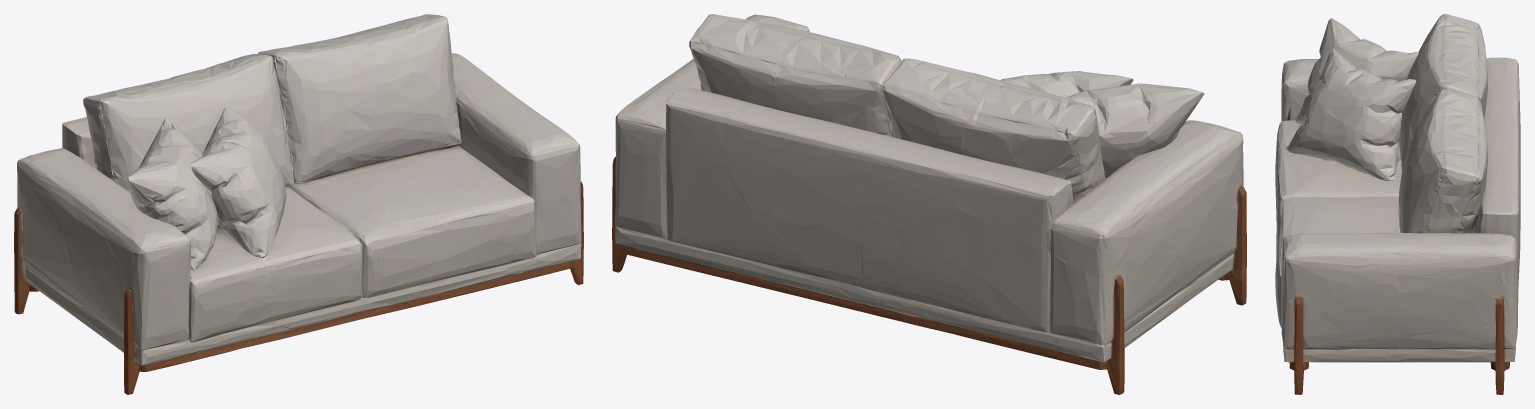
Rendered from whitesofa.glb.
3 views of the same model, side by side, from view 1: azimuth 30°, elevation 25°; view 2: azimuth 150°, elevation 25°; view 3: azimuth 270°, elevation 25° (orthographic). The views are drawn at different scales.
Parts seen in each view (by area): view 1: tripo_node_068ccf61-94d1-42a7-a3b0-18c442afbca1; view 2: tripo_node_068ccf61-94d1-42a7-a3b0-18c442afbca1; view 3: tripo_node_068ccf61-94d1-42a7-a3b0-18c442afbca1.
Boxes of the visible parts, left/top/right/bottom form: tripo_node_068ccf61-94d1-42a7-a3b0-18c442afbca1: left=14, top=14, right=583, bottom=394; tripo_node_068ccf61-94d1-42a7-a3b0-18c442afbca1: left=612, top=14, right=1246, bottom=394; tripo_node_068ccf61-94d1-42a7-a3b0-18c442afbca1: left=1275, top=14, right=1520, bottom=394.
Bounding box in the file's own units: 0.9778 × 0.4585 × 0.4963.
1 material, 1 textured.
